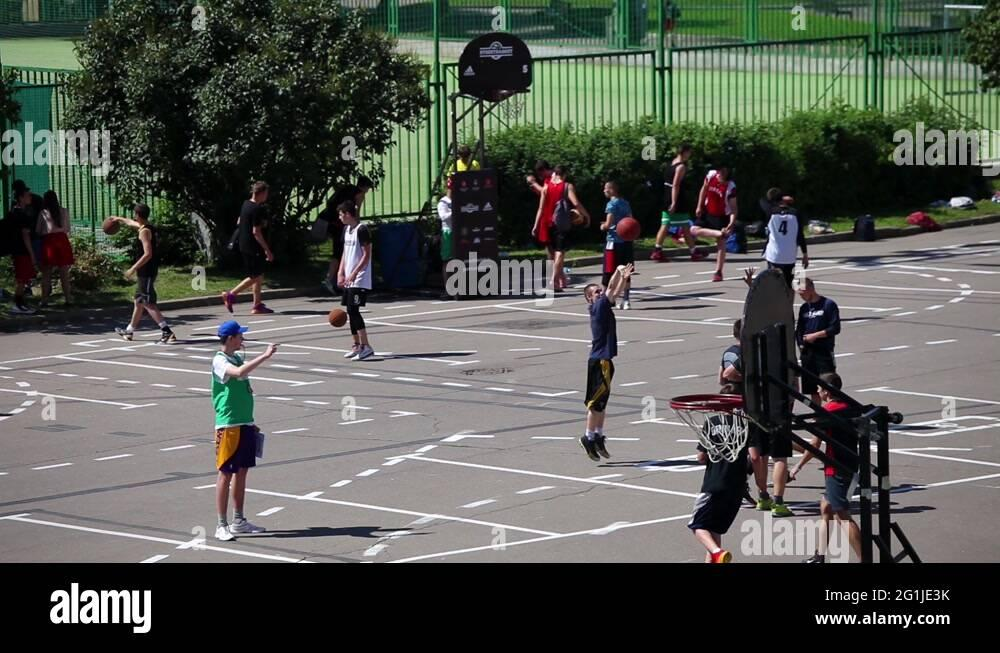basketball: (325, 305, 348, 330), (615, 218, 639, 239), (104, 215, 119, 229)
